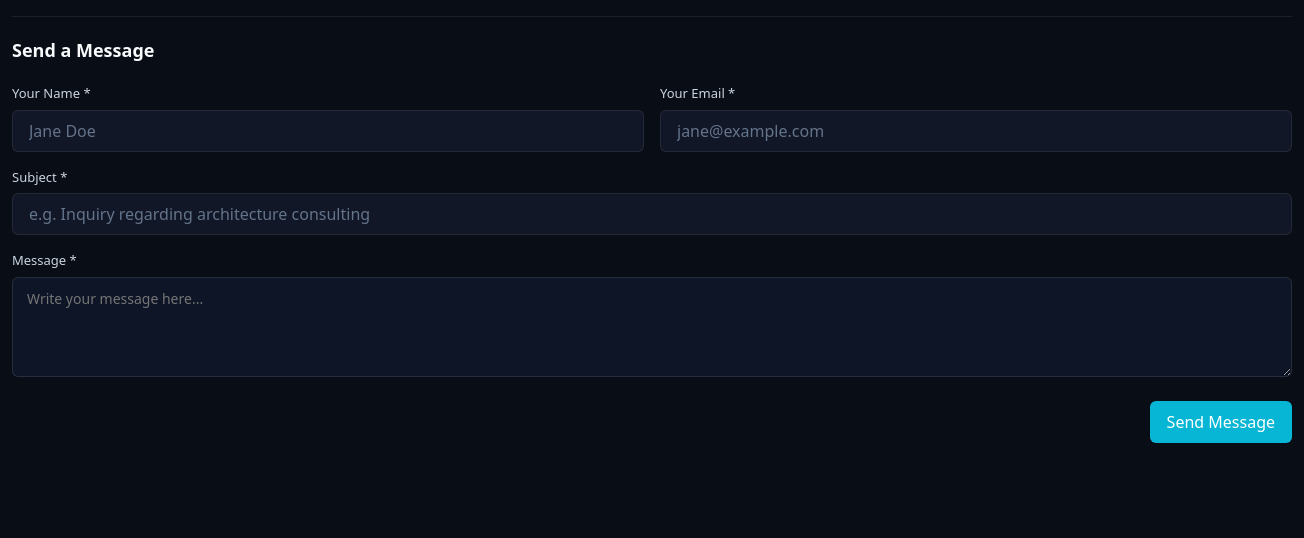
Test: ContactForm Component › shows validation errors when submitted empty
Click the button "Send Message" at (1221, 422), box left=1150, top=400, right=1292, bottom=442
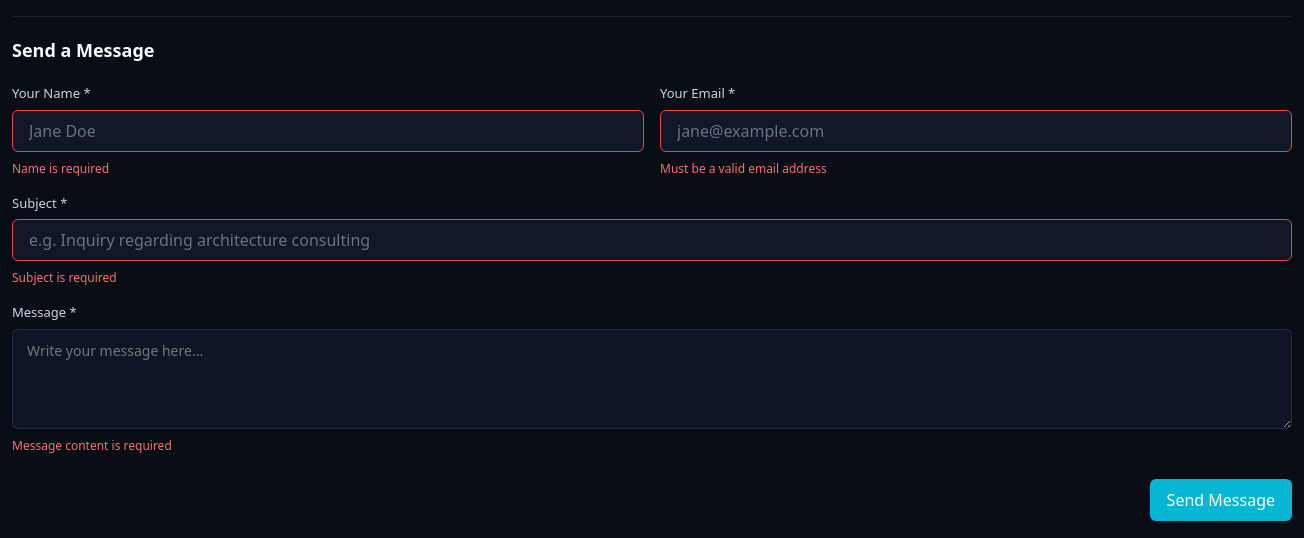
expect the text "Name is required" is shown: met, box left=12, top=160, right=109, bottom=176
expect the text "Must be a valid email address" is shown: met, box left=660, top=160, right=827, bottom=176
